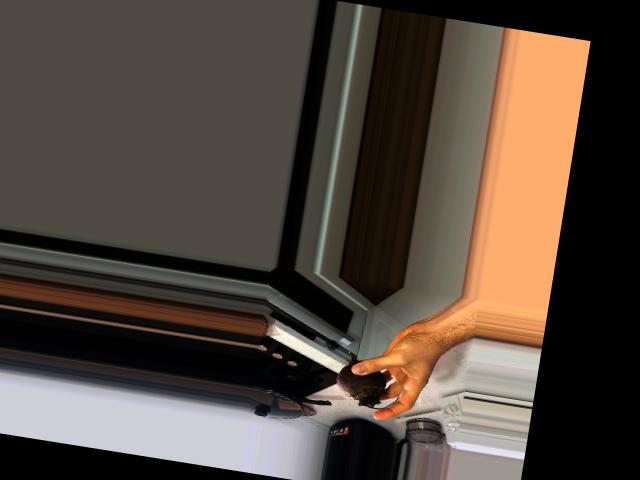beet: (333, 349, 403, 411)
